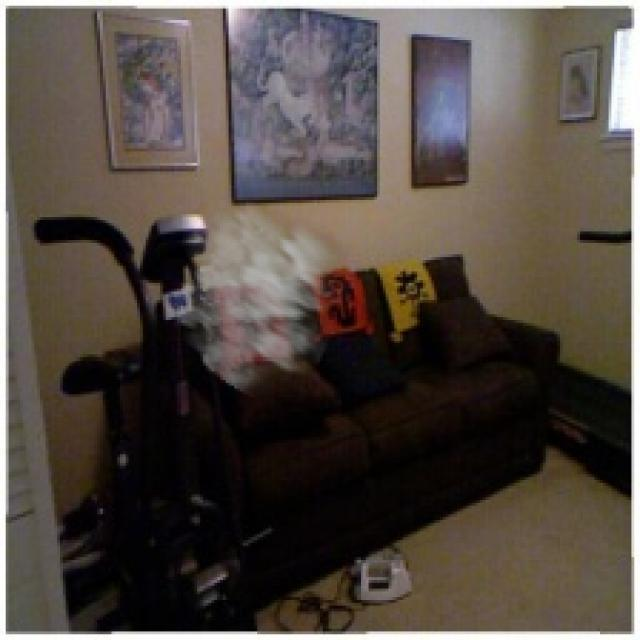Smoke: (166, 194, 366, 403)
